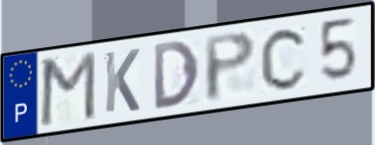5: (316, 14, 360, 85)
C: (258, 24, 310, 93)
D: (151, 38, 202, 113)
K: (102, 46, 142, 116)
M: (37, 48, 99, 129)
P: (202, 29, 258, 105)
